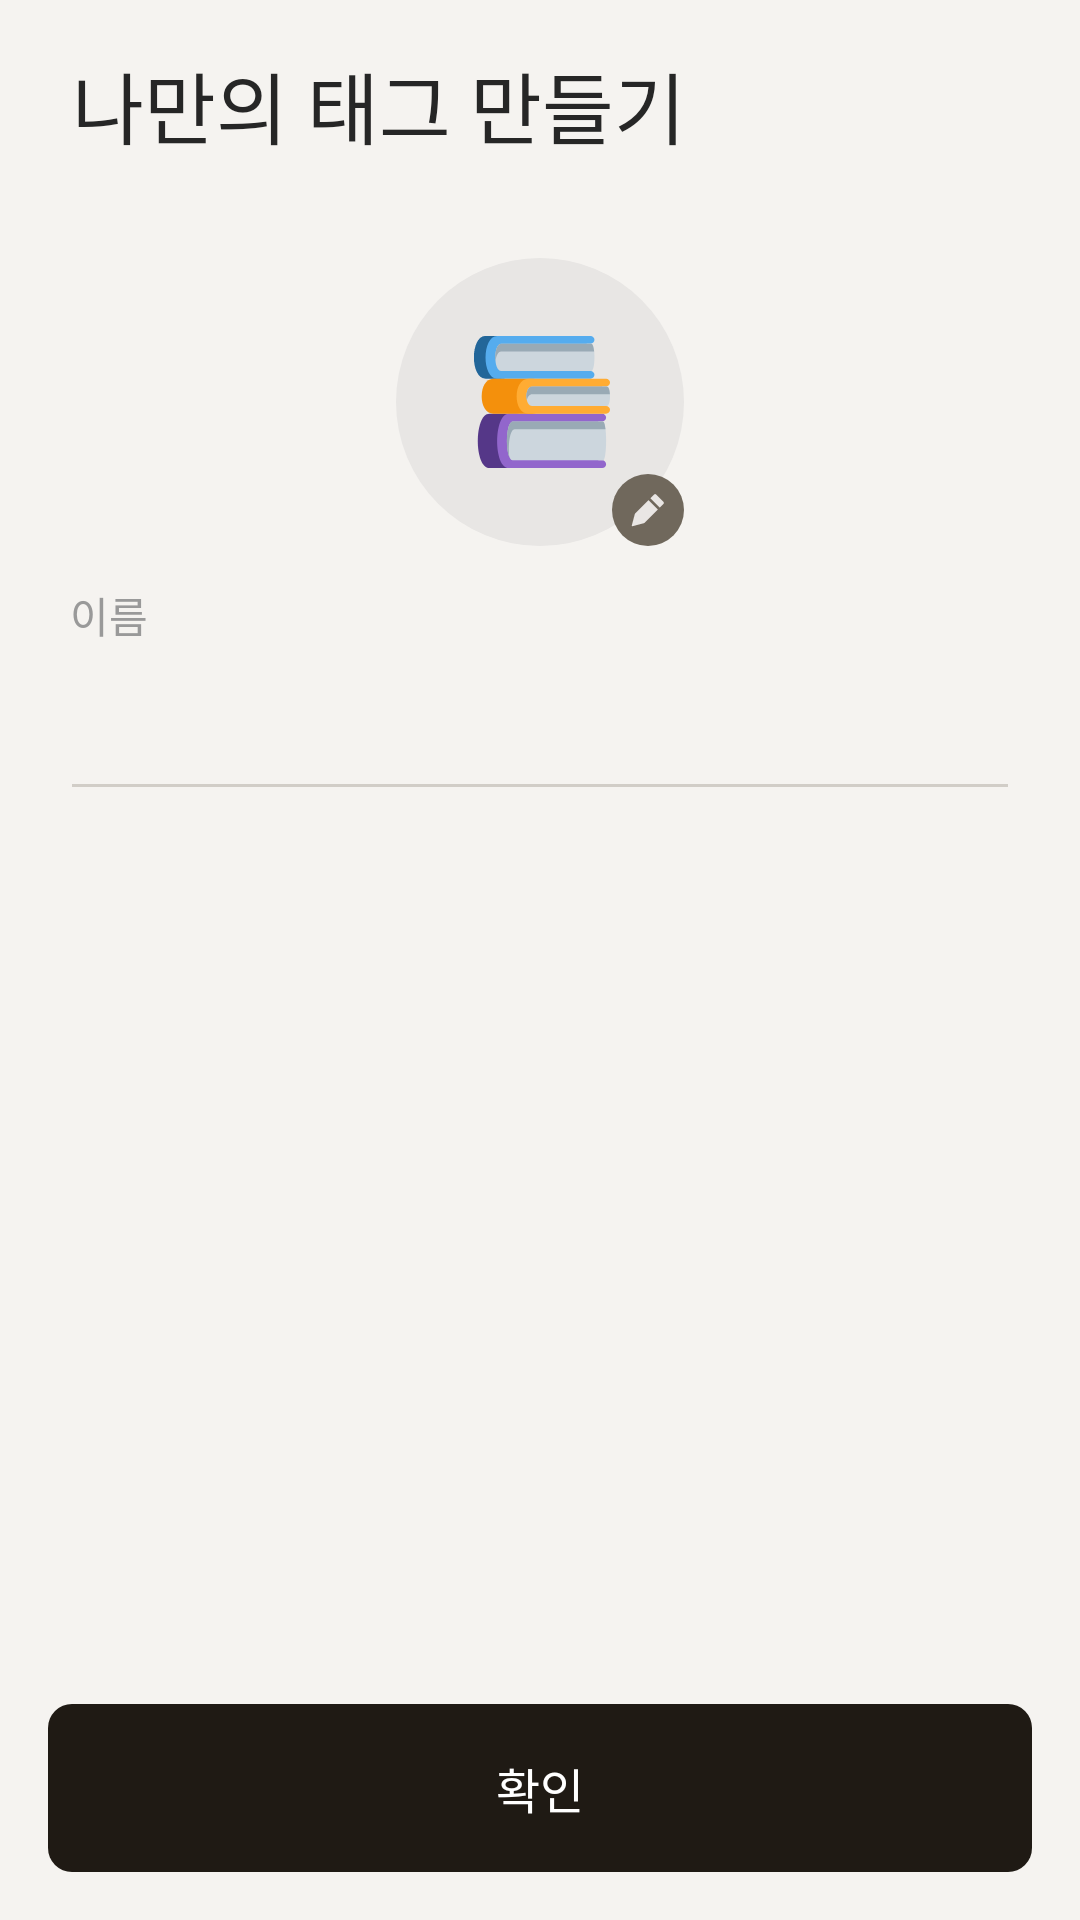

Locate icon controls on the screen. Image size 1080*1920, boxes as (x1, y1, x2, y2).
books: (474, 336, 610, 468)
pencil mono: (612, 474, 684, 546)
